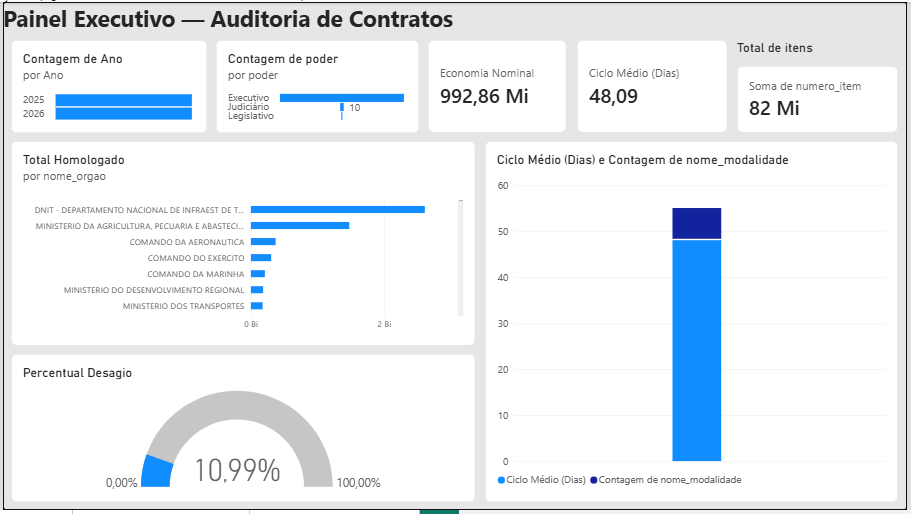

What the dashboard file says about the page in this screenshot:
{"tool":"powerbi","page":{"name":"Visão geral","canvas":[1280,720],"ordinal":0},"visuals":[{"type":"barChart","fields":{"Category":["pncp_controladoria dim_orgao.nome_orgao"],"Y":["pncp_controladoria fato_item_contratado.Total Homologado"]},"box":[11.7,196.7,658.3,290],"z":0},{"type":"gauge","fields":{"Y":["pncp_controladoria fato_item_contratado.Percentual Desagio"]},"box":[11.7,498.3,658.3,210],"z":2},{"type":"columnChart","fields":{"Y":["pncp_controladoria fato_item_contratado.Ciclo Médio (Dias)","CountNonNull(pncp_controladoria dim_modalidade.nome_modalidade)"]},"box":[683.3,196.7,585,511.7],"z":3},{"type":"textbox","box":[0,0,653.3,76.7],"z":4},{"type":"funnel","fields":{"Category":["pncp_controladoria fato_item_contratado.data_homologacao.Variation.Hierarquia de datas.Ano"],"Y":["CountNonNull(pncp_controladoria fato_item_contratado.data_homologacao.Variation.Hierarquia de datas.Ano)"]},"box":[11.7,53.3,278.3,131.7],"z":5},{"type":"funnel","fields":{"Category":["pncp_controladoria dim_orgao.poder"],"Y":["CountNonNull(pncp_controladoria dim_orgao.poder)"]},"box":[301.7,53.3,288.3,131.7],"z":6},{"type":"cardVisual","fields":{"Data":["pncp_controladoria fato_item_contratado.Economia Nominal"]},"box":[601.7,53.3,196.7,131.7],"z":7},{"type":"cardVisual","fields":{"Data":["pncp_controladoria fato_item_contratado.Ciclo Médio (Dias)"]},"box":[813.3,53.3,213.3,131.7],"z":8},{"type":"cardVisual","title":"Total de itens","fields":{"Data":["Sum(pncp_controladoria fato_item_contratado.numero_item)"]},"box":[1040,53.3,228.3,131.7],"z":9}]}

Visuals, with their boxes in screenshot pixels (x1, y1, x2, y2), scaled from the page's 1280x720 canvas onto the 912x516 screenshot:
barChart - pncp_controladoria dim_orgao.nome_orgao x pncp_controladoria fato_item_contratado.Total Homologado: <region>8, 141, 477, 349</region>
gauge - pncp_controladoria fato_item_contratado.Percentual Desagio: <region>8, 357, 477, 508</region>
columnChart - pncp_controladoria fato_item_contratado.Ciclo Médio (Dias) x CountNonNull(pncp_controladoria dim_modalidade.nome_modalidade): <region>487, 141, 904, 508</region>
textbox: <region>0, 0, 465, 55</region>
funnel - pncp_controladoria fato_item_contratado.data_homologacao.Variation.Hierarquia de datas.Ano x CountNonNull(pncp_controladoria fato_item_contratado.data_homologacao.Variation.Hierarquia de datas.Ano): <region>8, 38, 207, 133</region>
funnel - pncp_controladoria dim_orgao.poder x CountNonNull(pncp_controladoria dim_orgao.poder): <region>215, 38, 420, 133</region>
cardVisual - pncp_controladoria fato_item_contratado.Economia Nominal: <region>429, 38, 569, 133</region>
cardVisual - pncp_controladoria fato_item_contratado.Ciclo Médio (Dias): <region>579, 38, 731, 133</region>
"Total de itens" cardVisual: <region>741, 38, 904, 133</region>
